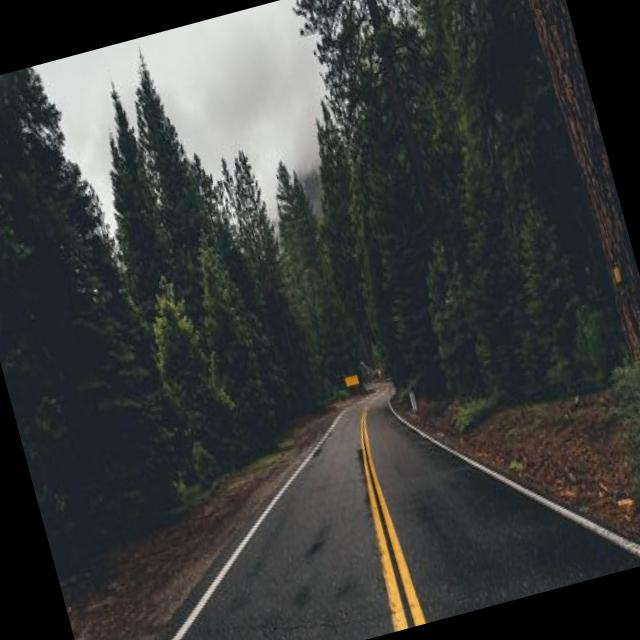asphalt: (158, 397, 640, 640)
